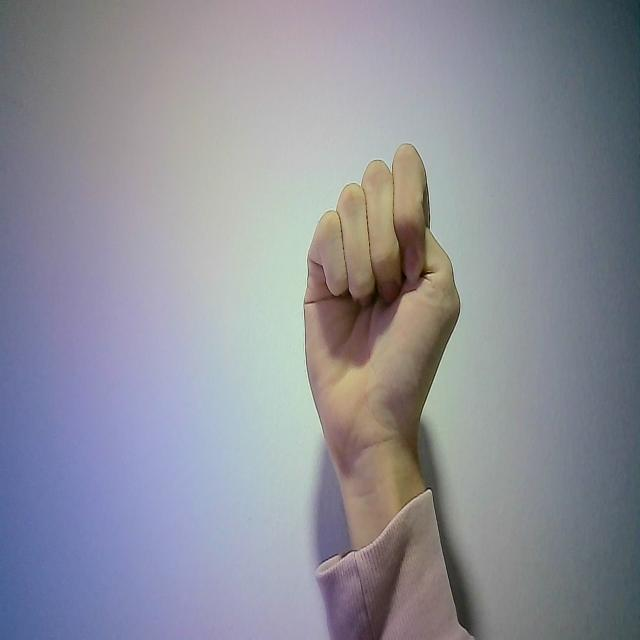M: (291, 129, 471, 452)
